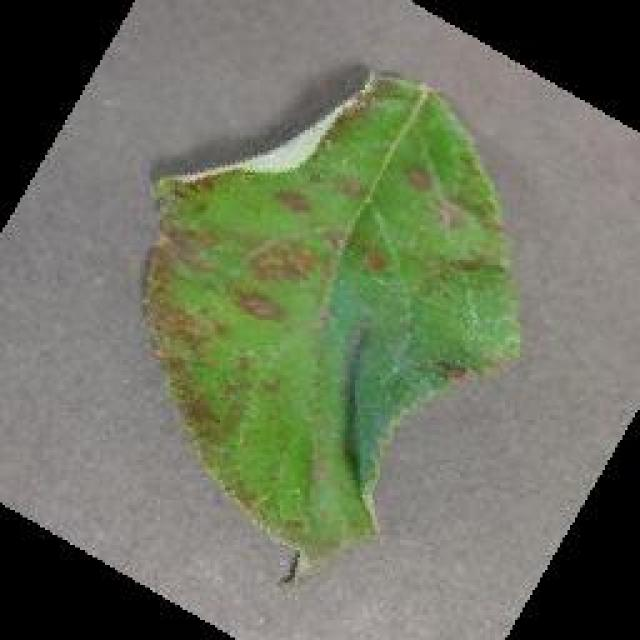apple scab disease: (138, 68, 522, 582)
